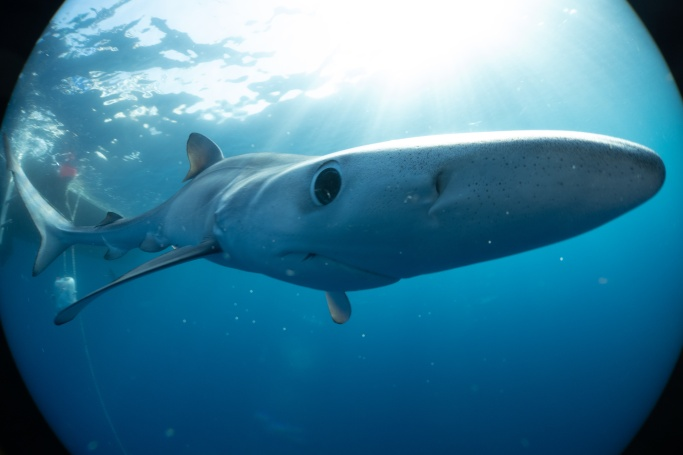Azul: (4, 107, 680, 366)
